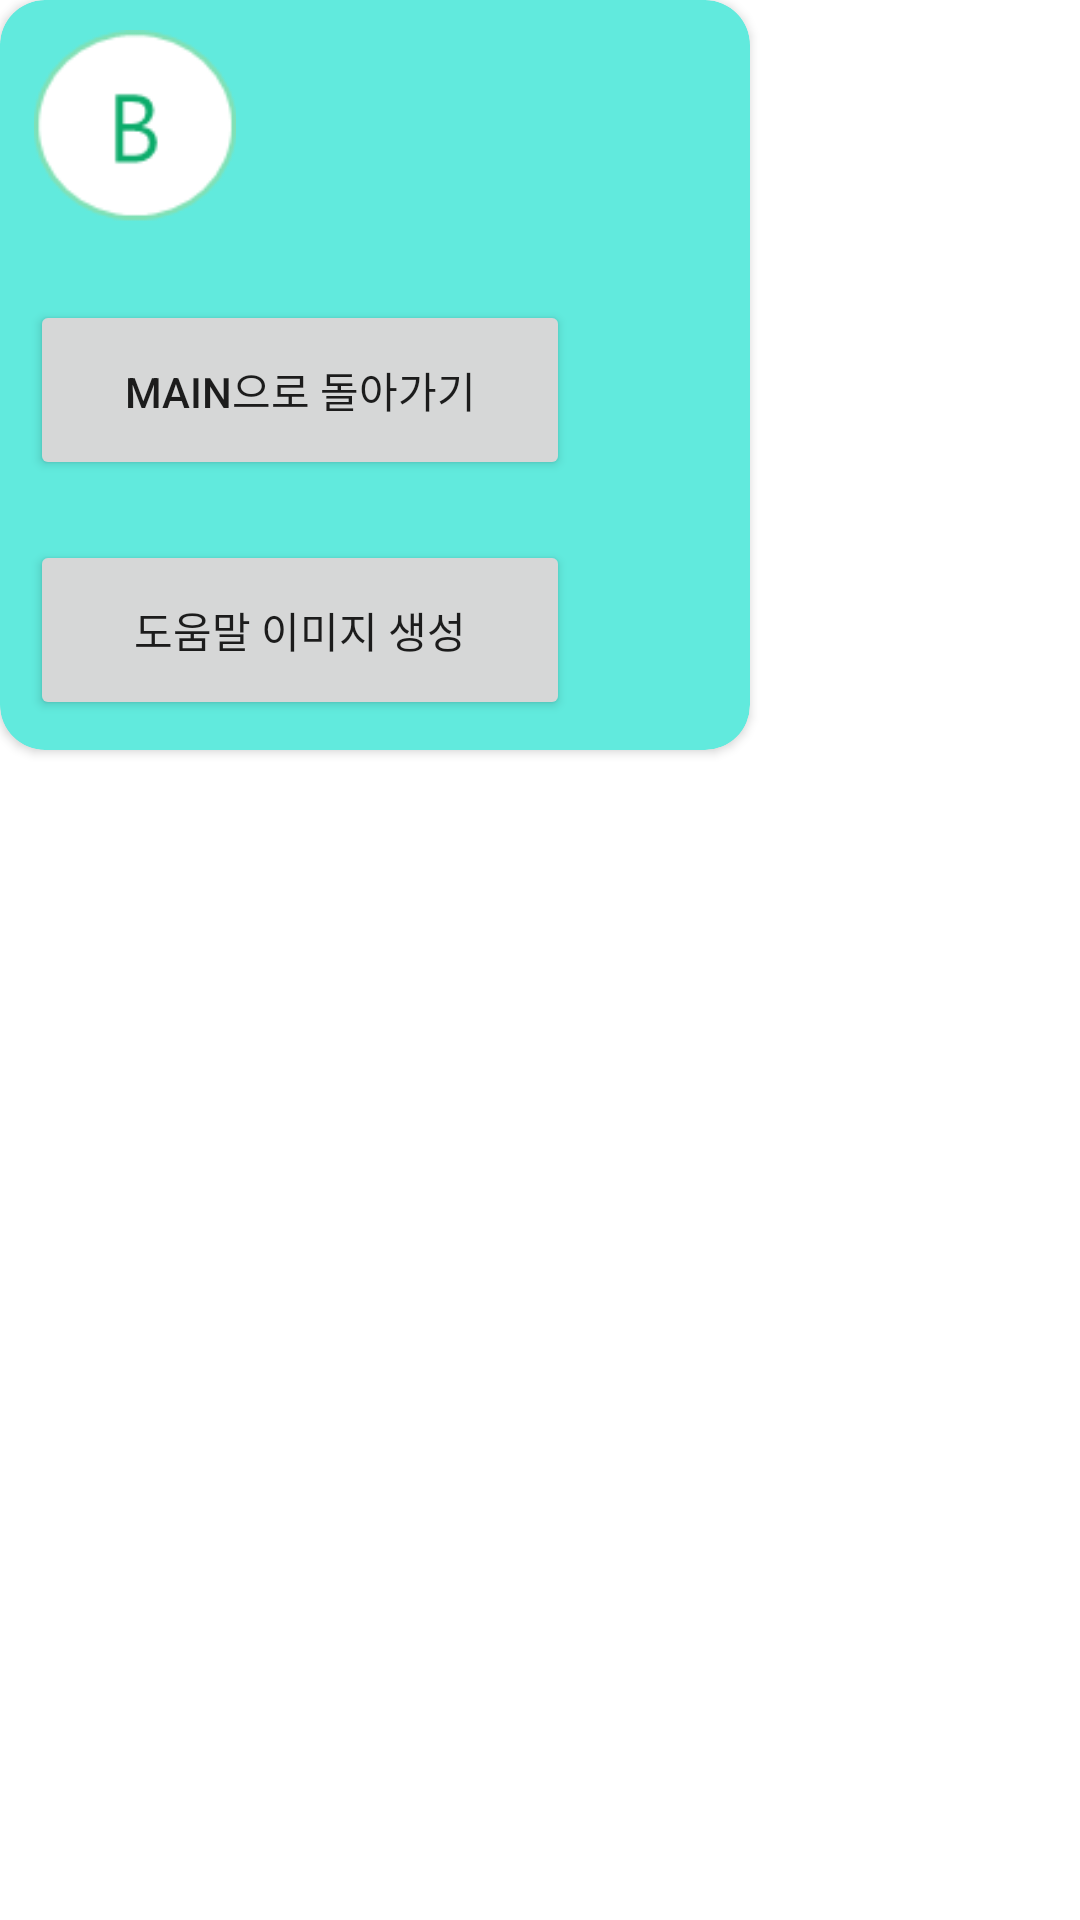

Where icons sit on this 1080px x 1920px app screen, as BBox(x1, y1, x2, y2):
your bubble: BBox(34, 30, 236, 220)
